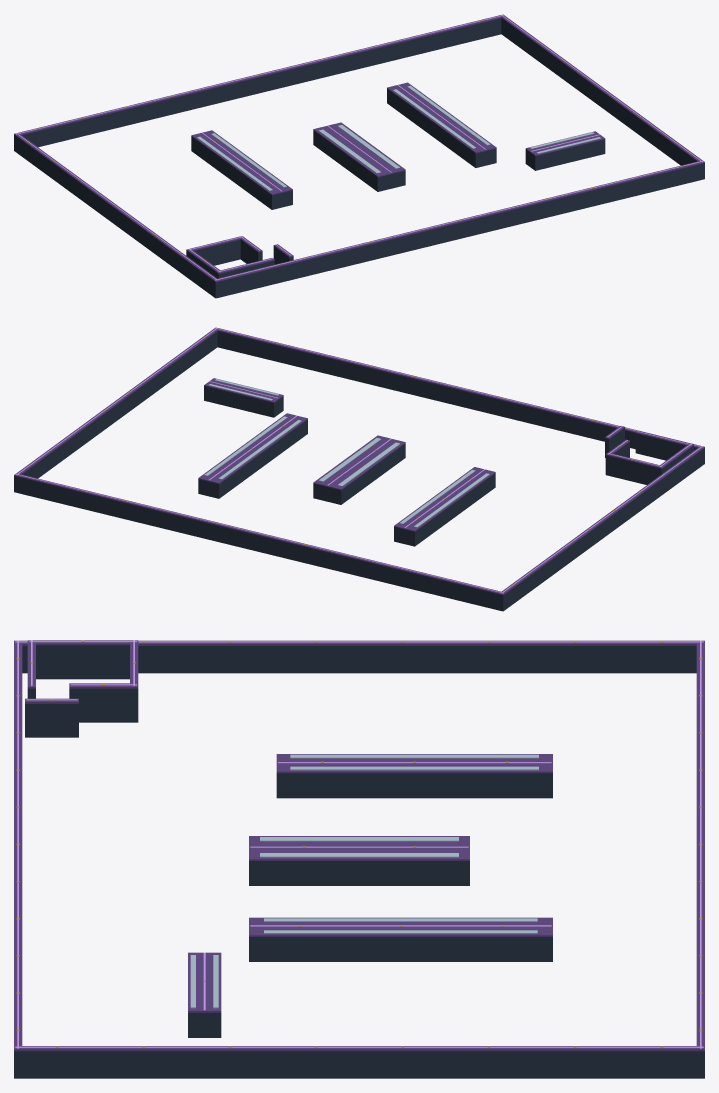
The model's file is campaign_ghost_sparks.runtime.gltf.
3 renders of one model, top to bottom at view 1: azimuth 30°, elevation 25°; view 2: azimuth 150°, elevation 25°; view 3: azimuth 270°, elevation 25°, orthographic. The views are drawn at different scales.
Visible parts, largest first — view 1: BATCH material 0, BATCH material 1, BATCH material 3, BATCH material 2; view 2: BATCH material 0, BATCH material 1, BATCH material 3, BATCH material 2; view 3: BATCH material 0, BATCH material 1, BATCH material 2, BATCH material 3.
Boxes of the visible parts, x1,y1,x2,y2 form: BATCH material 0: [14, 18, 704, 298]; BATCH material 1: [14, 14, 704, 282]; BATCH material 3: [16, 15, 703, 280]; BATCH material 2: [197, 85, 600, 190]; BATCH material 0: [14, 331, 704, 611]; BATCH material 1: [14, 327, 704, 595]; BATCH material 3: [15, 328, 702, 593]; BATCH material 2: [204, 379, 489, 527]; BATCH material 0: [14, 645, 704, 1078]; BATCH material 1: [14, 640, 704, 1051]; BATCH material 2: [190, 754, 538, 1008]; BATCH material 3: [15, 640, 703, 1048].
Size of the model in its own units: 35 by 1.45 by 25.
